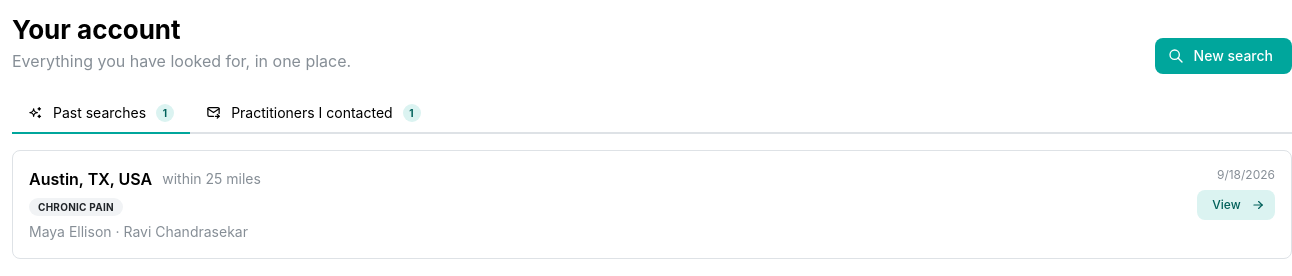
it: <DashboardPage /> › says so plainly when only contact details were shared
Click the tab "Practitioners I contacted 1" at (313, 114), box x1=190 y1=94 x2=437 y2=134
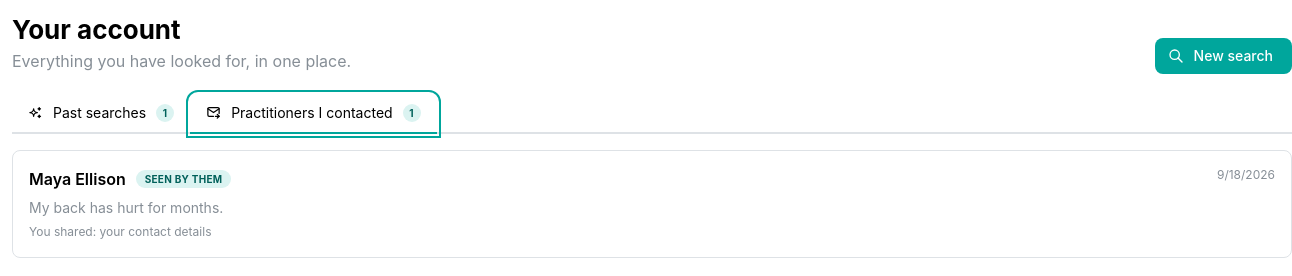
Now the text "You shared: your contact details" is shown, box x1=29 y1=224 x2=231 y2=241
